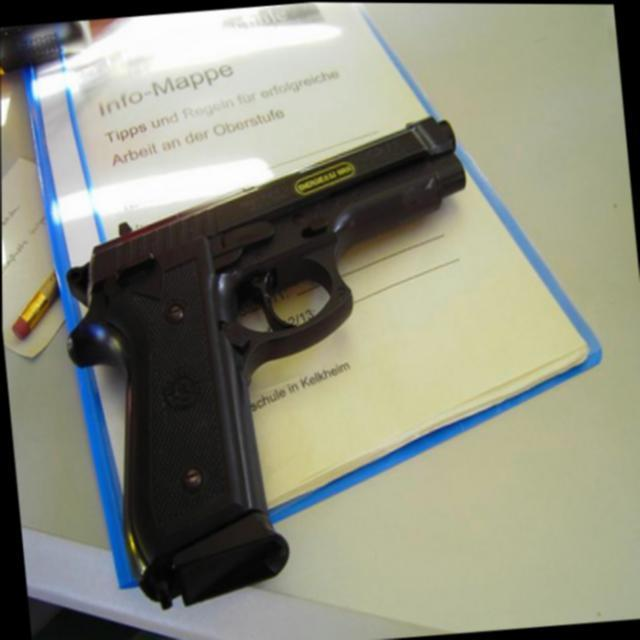weapon: (45, 108, 504, 616)
